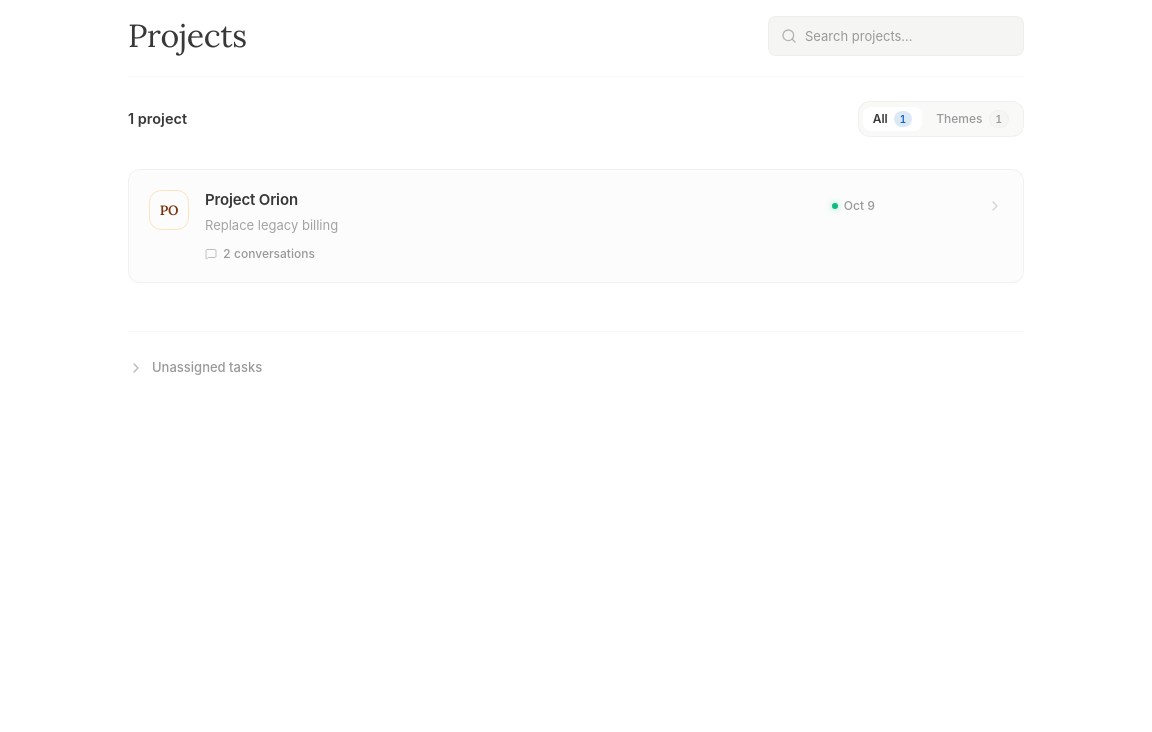
Test case: ProjectsExecutionTab borderless portfolio and dossier routing › opens real dossier and returns to the overview
Click the button that starts with "Project Orion" at {"x": 169, "y": 210}, box [129,170,1023,282]
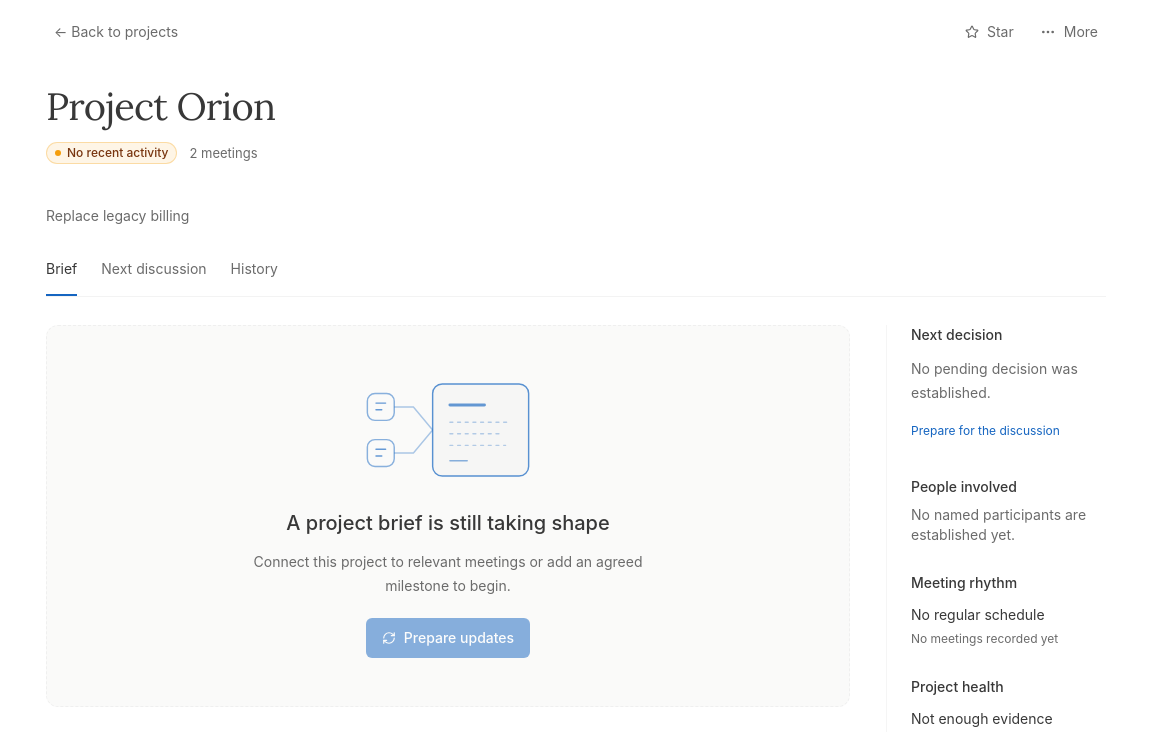
Click the button "← Back to projects" at {"x": 116, "y": 32}, box [46,12,186,52]
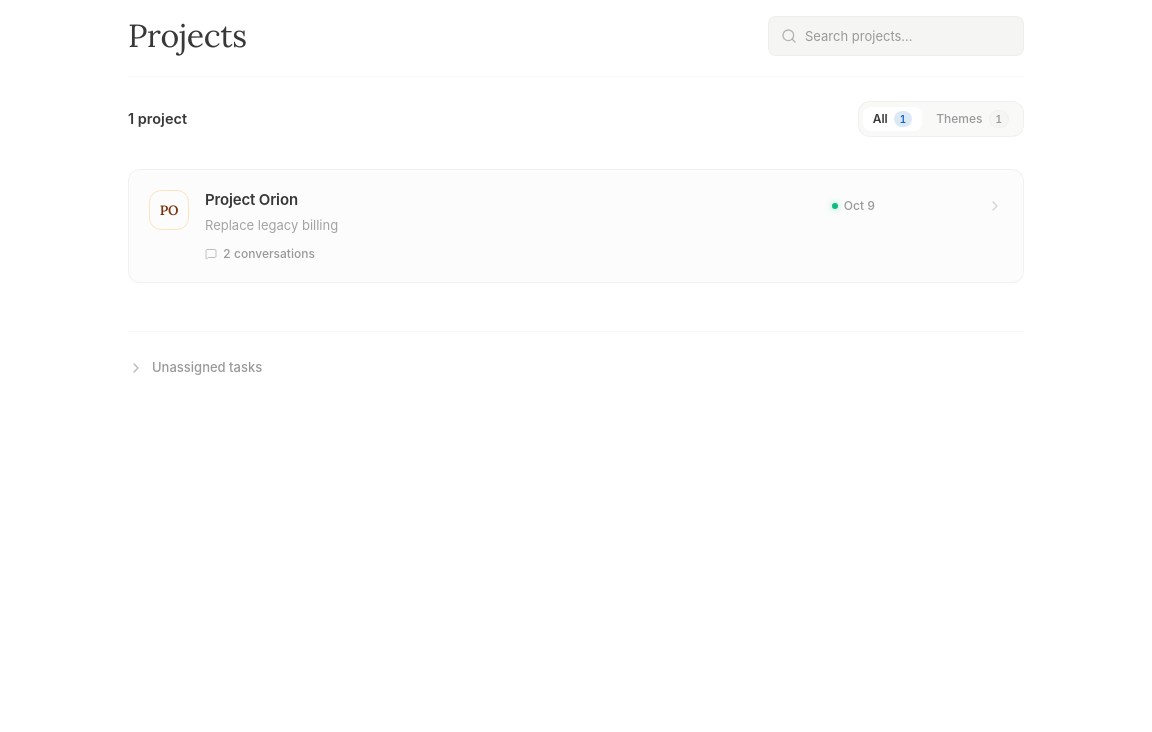
Result: the element with test id "current-projects" is shown at [128,169,1024,283]
